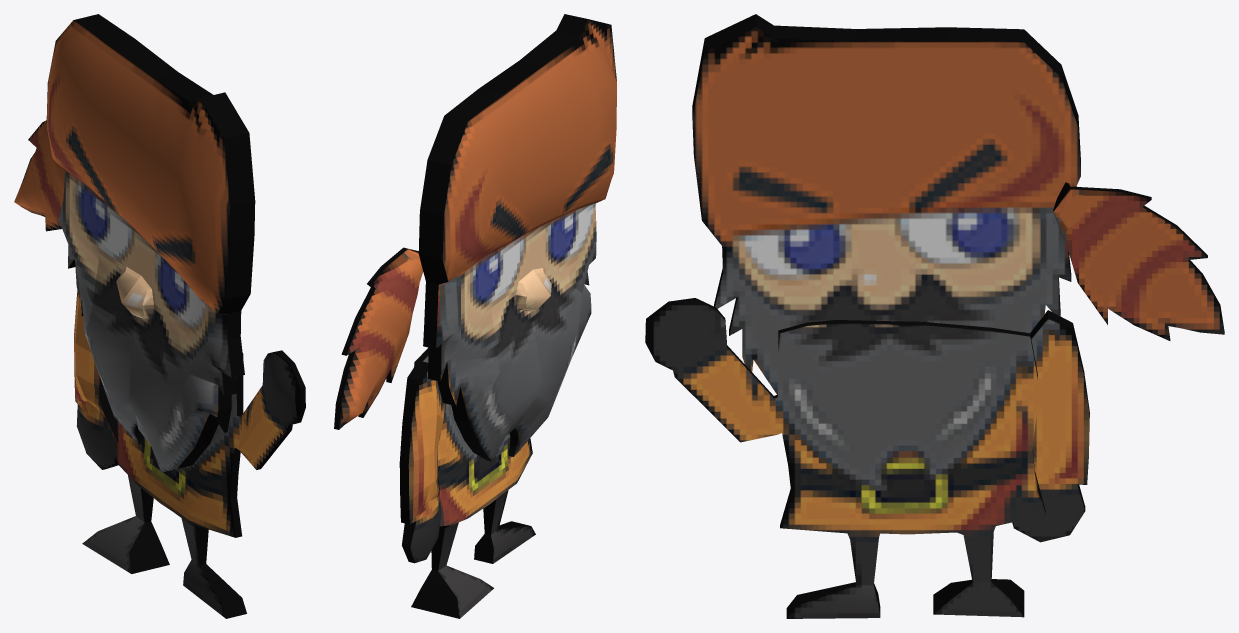
Rendered from SM_Character_3.fbx.
The picture shows the model from 3 angles, left to right: view 1: azimuth 30°, elevation 25°; view 2: azimuth 150°, elevation 25°; view 3: azimuth 270°, elevation 25°; orthographic projection. The views are drawn at different scales.
Visible parts, largest first — view 1: SM_Character_3; view 2: SM_Character_3; view 3: SM_Character_3.
Part boxes in pixels (x1=…): SM_Character_3: x1=14, y1=14, x2=305, y2=618; SM_Character_3: x1=334, y1=14, x2=616, y2=618; SM_Character_3: x1=645, y1=14, x2=1224, y2=618.
Bounding box in the file's own units: 4.97 × 29 × 31.66.
1 material, 1 textured.
